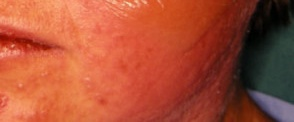SJS-TEN: (0, 0, 291, 122)
